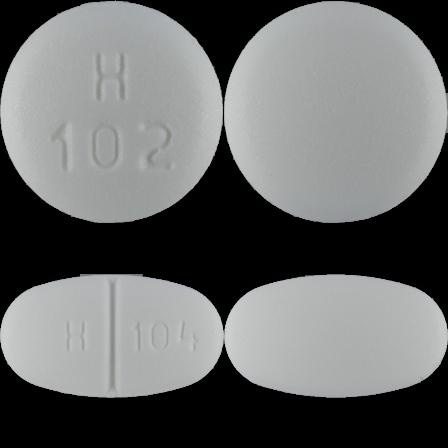68788-9121: (0, 0, 224, 224)
